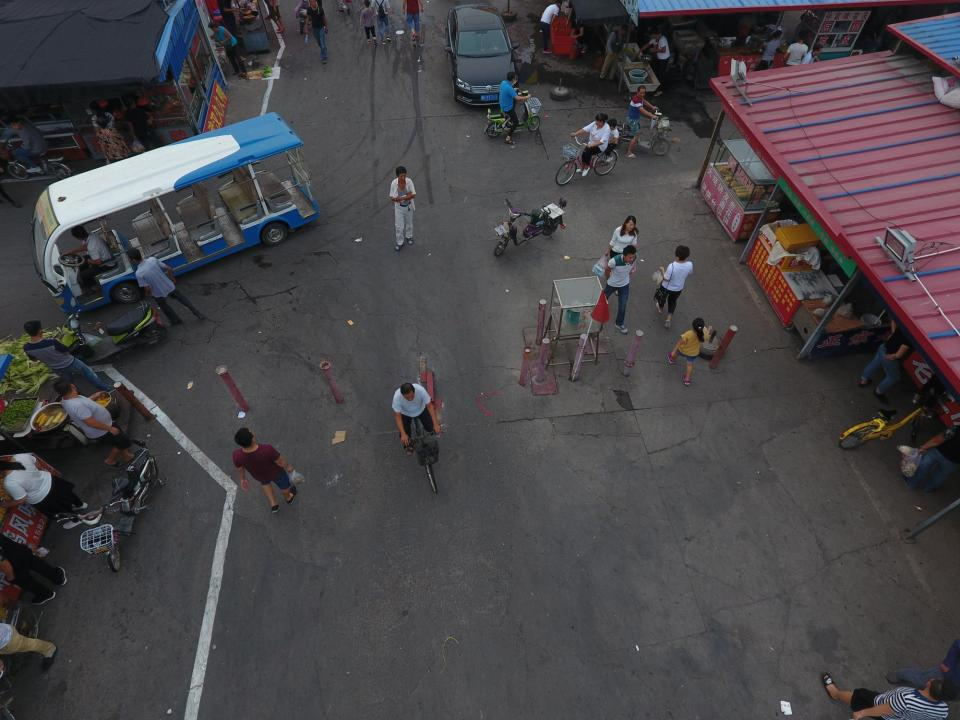bus: (30, 112, 316, 314)
car: (442, 5, 518, 108)
